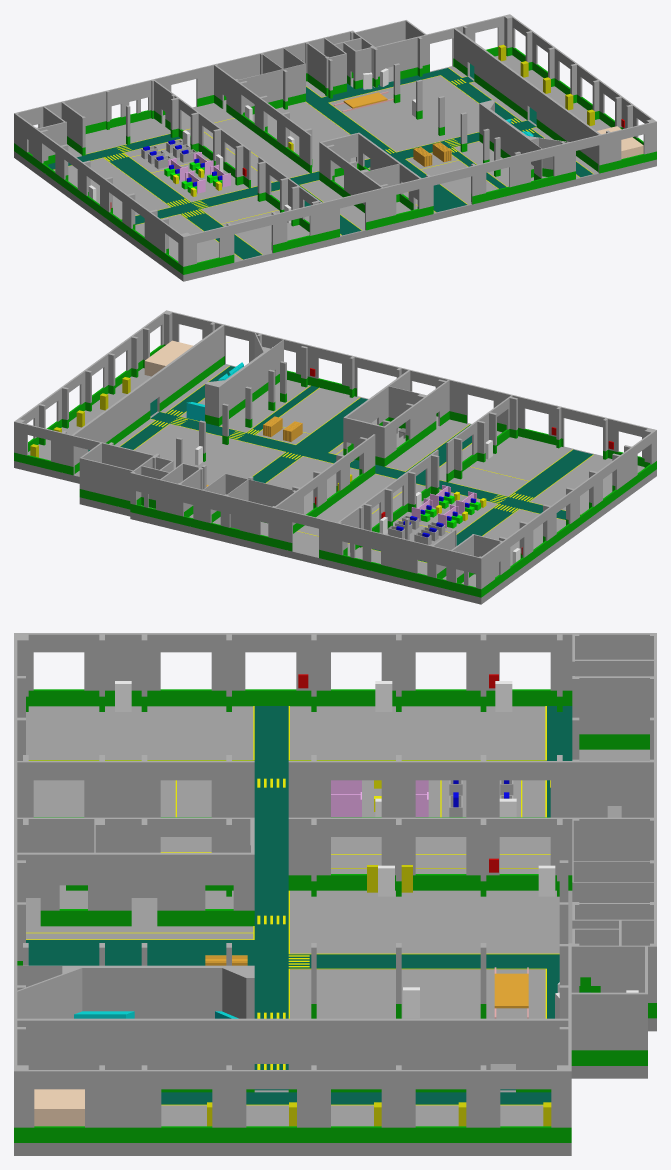
File: 车间大平面.glb
3 renders of one model, top to bottom at view 1: azimuth 30°, elevation 25°; view 2: azimuth 150°, elevation 25°; view 3: azimuth 270°, elevation 25°, orthographic. The views are drawn at different scales.
Parts seen in each view (by area): view 1: 702车间平面1.SLDPRT; view 2: 702车间平面1.SLDPRT; view 3: 702车间平面1.SLDPRT.
Part boxes in pixels (x1,y1,x2,y2): 702车间平面1.SLDPRT: (14,14,656,281); 702车间平面1.SLDPRT: (14,310,656,604); 702车间平面1.SLDPRT: (14,633,656,1155).
Bounding box in the file's own units: 73.44 × 6.6 × 45.53.
